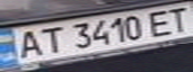0: (121, 12, 148, 42)
1: (106, 15, 130, 44)
3: (66, 20, 93, 51)
4: (90, 17, 112, 46)
A: (12, 27, 45, 60)
E: (142, 7, 178, 37)
T: (33, 25, 66, 55), (163, 3, 193, 34)
